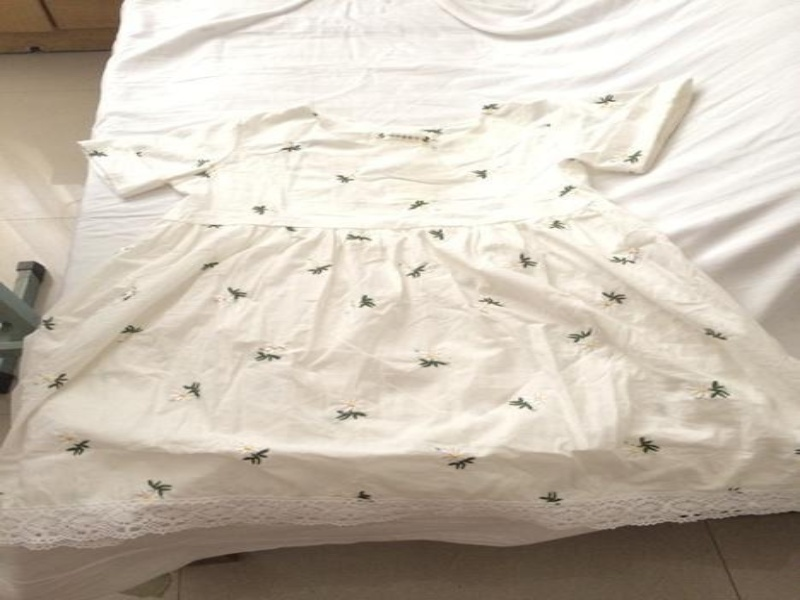short_sleeved_dress: (2, 76, 798, 599)
